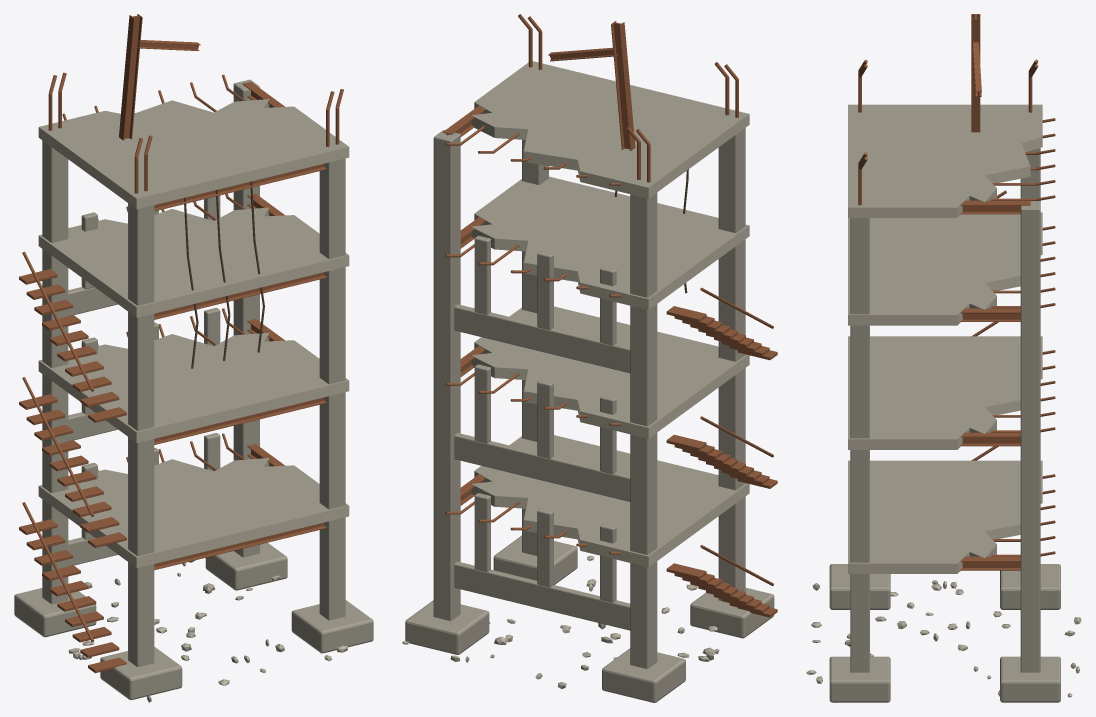
The model's file is Ruined_Concrete_Tower_Wasteland.glb.
3 views of the same model, side by side, from view 1: azimuth 30°, elevation 25°; view 2: azimuth 150°, elevation 25°; view 3: azimuth 270°, elevation 25° (orthographic). The views are drawn at different scales.
Parts seen in each view (by area): view 1: Structure; view 2: Structure; view 3: Structure.
Part boxes in pixels (x1,y1,x2,y2): Structure: [14, 14, 373, 702]; Structure: [402, 14, 777, 702]; Structure: [806, 14, 1081, 702].
Size of the model in its own units: 9.9 by 22.08 by 9.04.
